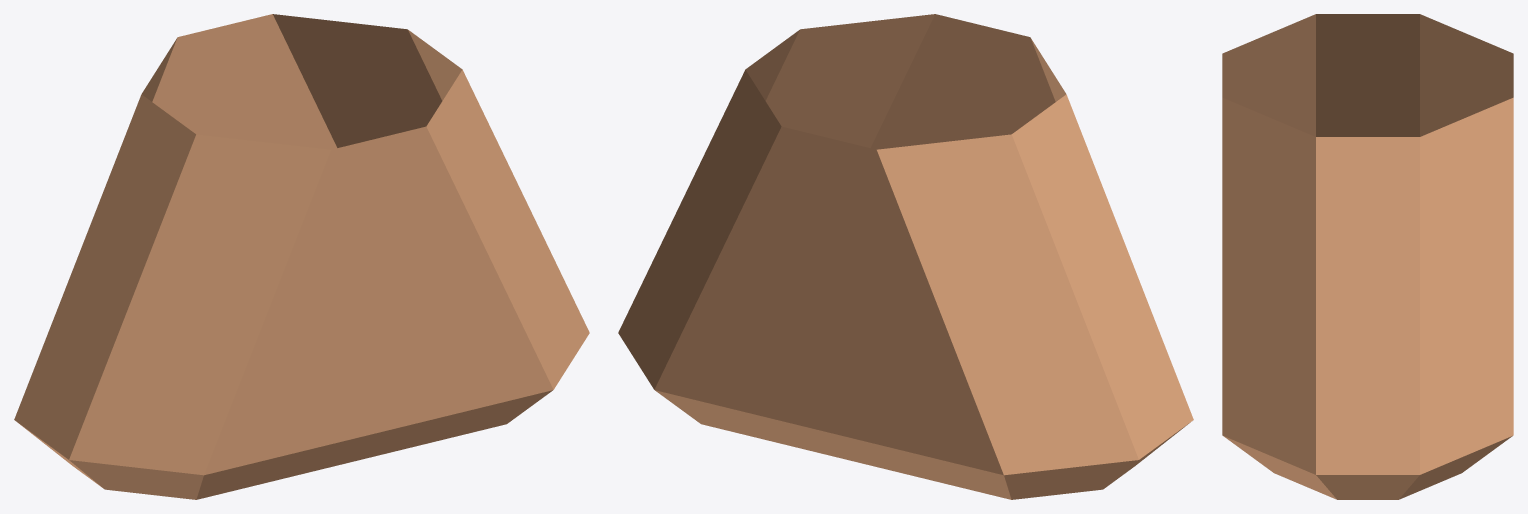
Rendered from Pommel1.glb.
3 renders of one model, left to right at view 1: azimuth 30°, elevation 25°; view 2: azimuth 150°, elevation 25°; view 3: azimuth 270°, elevation 25°, orthographic. The views are drawn at different scales.
Parts seen in each view (by area): view 1: Pommel 1; view 2: Pommel 1; view 3: Pommel 1.
Boxes of the visible parts, left/top/right/bottom form: Pommel 1: left=14, top=14, right=589, bottom=499; Pommel 1: left=618, top=14, right=1193, bottom=499; Pommel 1: left=1222, top=14, right=1513, bottom=499.
Size of the model in its own units: 0.4771 by 0.301 by 0.2439.
